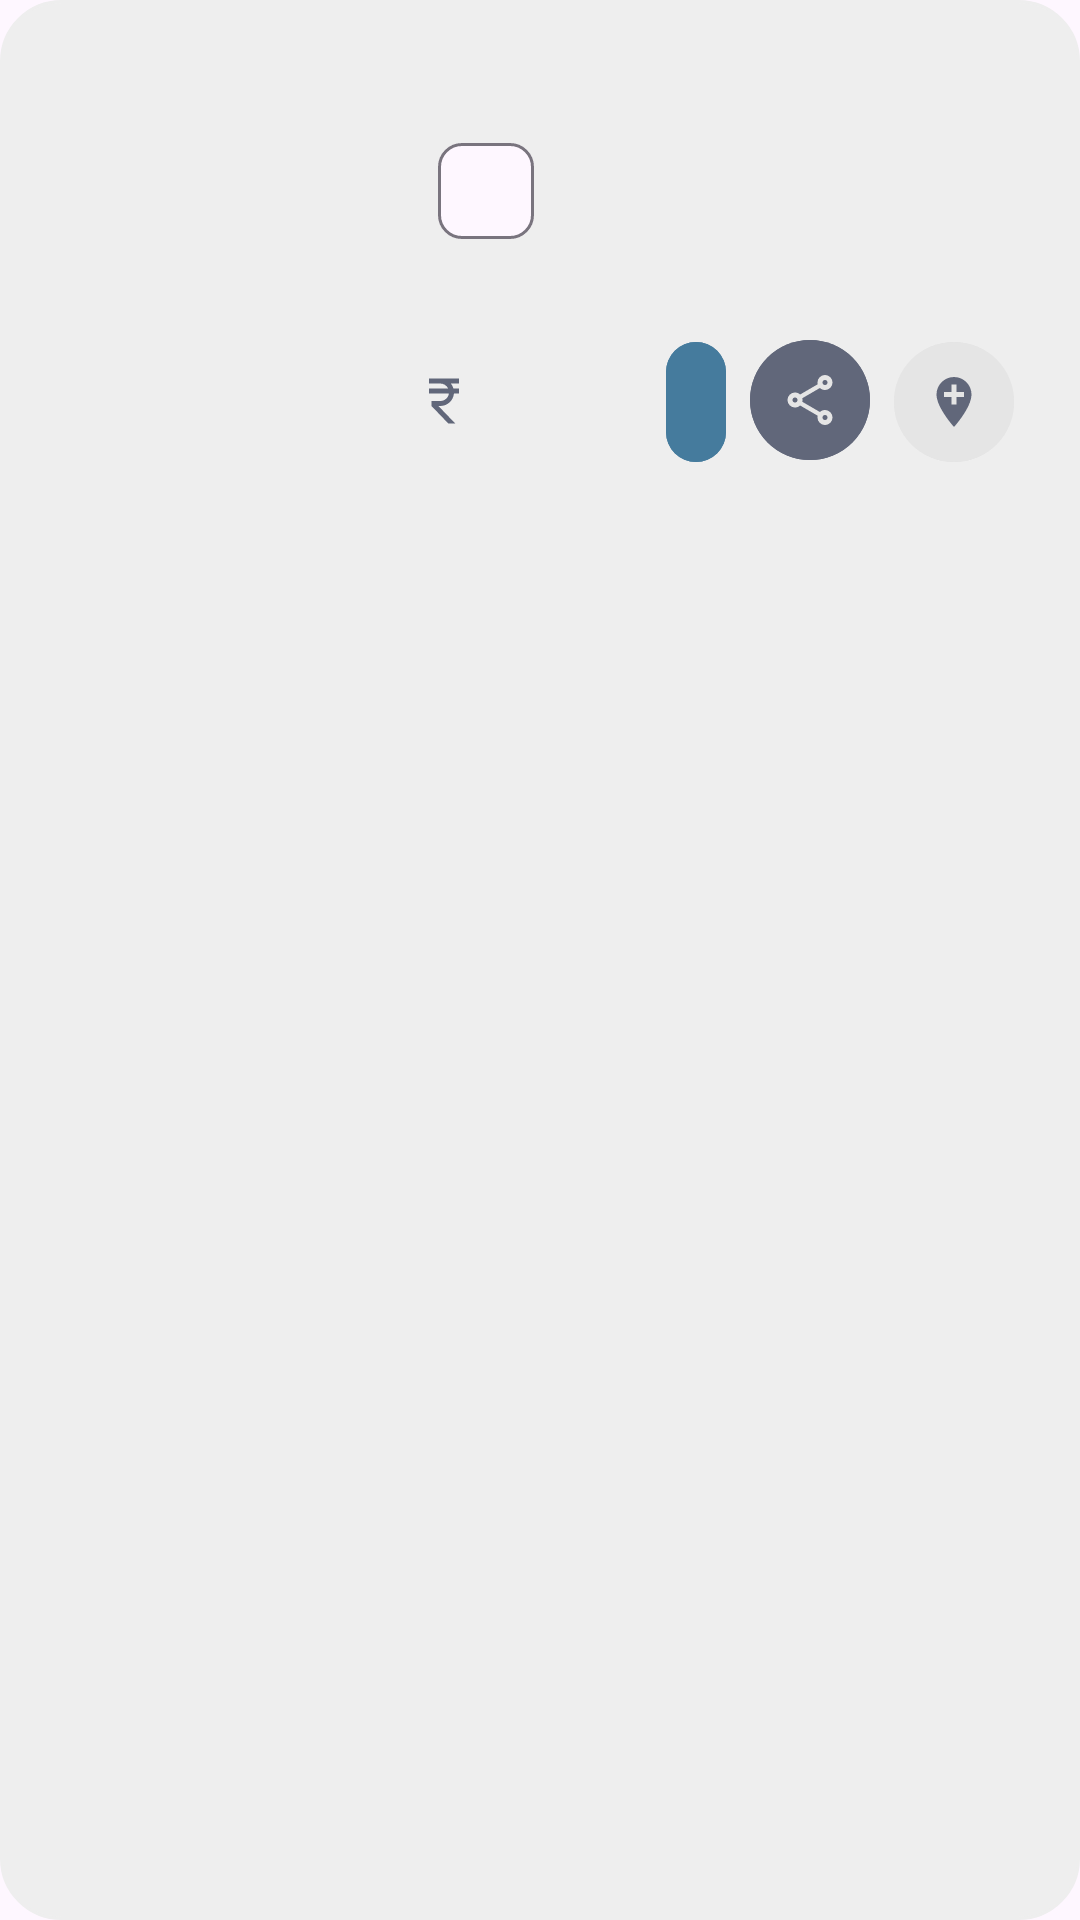

Icons on this 1080×1920 Android screen, each with the point to tap as (x=x, y=y):
add location: (x=954, y=402)
rupee: (x=444, y=401)
share: (x=810, y=400)
